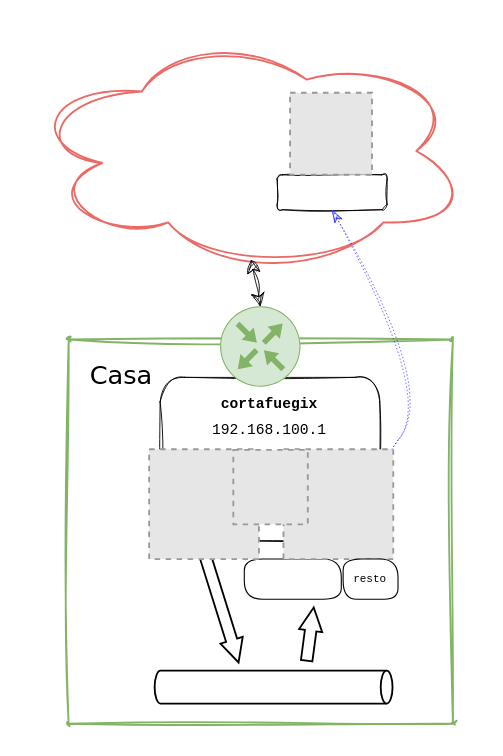
Some shapes in this 503 by 756 pixel diagram are drawn without their labels. Grey dashed boxes stand in for pictures. Here are the shapes that lost their labels. From the top down, the centre of each, then its label:
the point at 331,191: OpenDNS
the point at 292,578: parchis.org home.arpa
